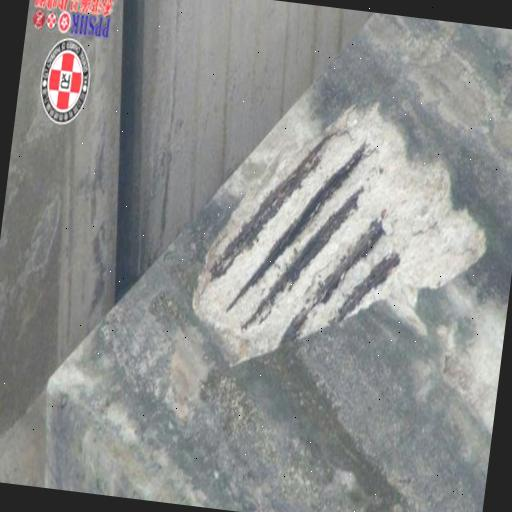spalling: (191, 103, 487, 363)
